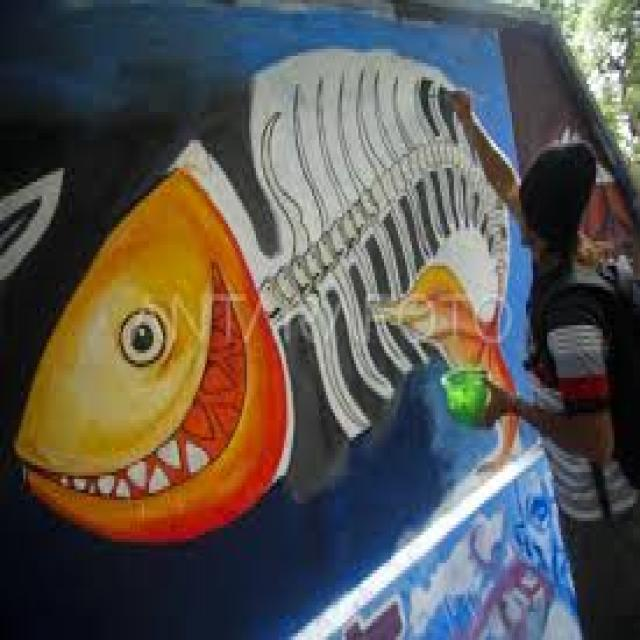-: (11, 50, 518, 542), (342, 453, 582, 640), (2, 164, 64, 284)
